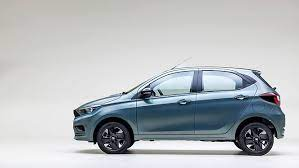Tiago: (71, 62, 289, 160)
